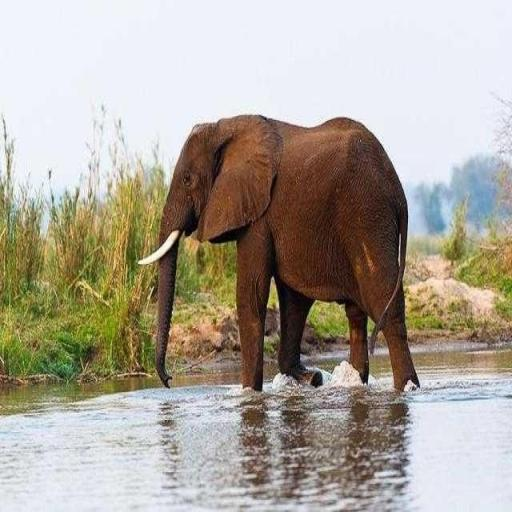Elephant: (137, 112, 420, 394)
